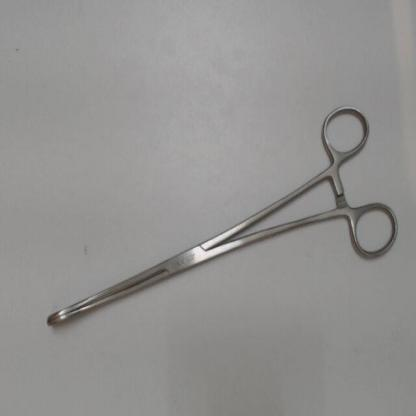Sponge Forceps: (38, 99, 404, 339)
